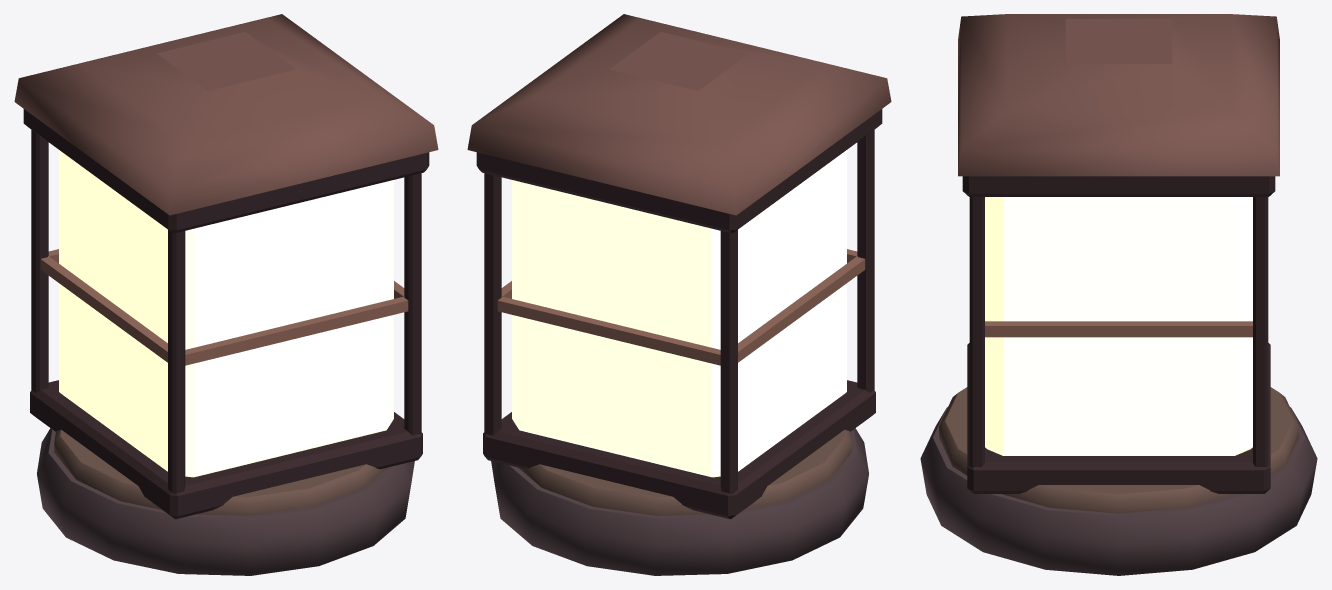
Rendered from paper_lantern.glb.
3 views of the same model, side by side, from view 1: azimuth 30°, elevation 25°; view 2: azimuth 150°, elevation 25°; view 3: azimuth 270°, elevation 25° (orthographic). The views are drawn at different scales.
Visible parts, largest first — view 1: paper_lantern; view 2: paper_lantern; view 3: paper_lantern.
Part boxes in pixels (x1,y1,x2,y2): paper_lantern: [14, 14, 438, 575]; paper_lantern: [467, 14, 891, 575]; paper_lantern: [920, 14, 1317, 575].
Size of the model in its own units: 0.258 by 0.334 by 0.258.
